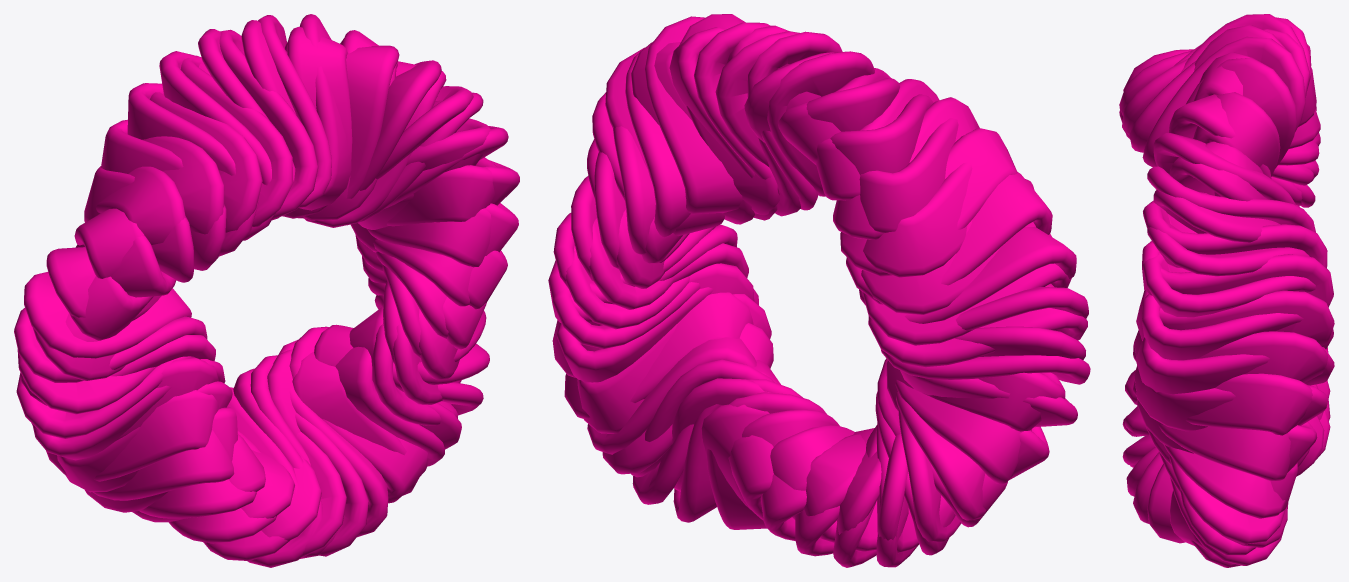
Rendered from torus_knot.glb.
3 views of the same model, side by side, from view 1: azimuth 30°, elevation 25°; view 2: azimuth 150°, elevation 25°; view 3: azimuth 270°, elevation 25° (orthographic). The views are drawn at different scales.
Parts seen in each view (by area): view 1: Torus Knot 4 x 26; view 2: Torus Knot 4 x 26; view 3: Torus Knot 4 x 26.
Part boxes in pixels (box(x1,y1,x2,y2)): Torus Knot 4 x 26: box(14, 14, 519, 567); Torus Knot 4 x 26: box(548, 14, 1090, 567); Torus Knot 4 x 26: box(1119, 14, 1334, 567).
Size of the model in its own units: 5.01 by 5.05 by 2.
